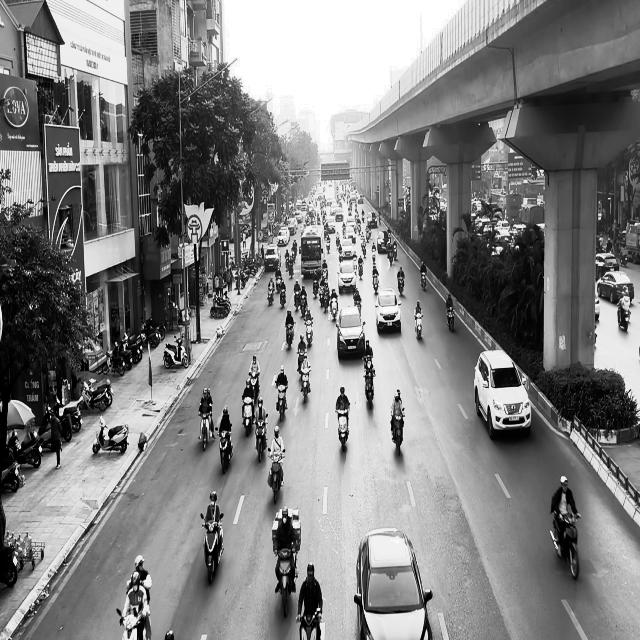bus: (300, 232, 322, 277)
car: (354, 527, 433, 639), (474, 349, 531, 440), (336, 305, 366, 360), (597, 271, 634, 304), (375, 287, 401, 332)
motorbike: (549, 511, 581, 579), (200, 513, 224, 584), (274, 544, 296, 618), (92, 417, 129, 454), (116, 607, 151, 639), (268, 449, 286, 503), (163, 336, 189, 368), (217, 425, 233, 473), (296, 610, 322, 639), (390, 408, 405, 455), (362, 356, 375, 409), (198, 407, 213, 451), (335, 406, 349, 452), (297, 366, 311, 404), (242, 396, 254, 437), (275, 383, 287, 421), (617, 303, 630, 331), (285, 322, 295, 349), (414, 312, 423, 340), (304, 318, 313, 346), (446, 305, 454, 331), (279, 285, 286, 308), (397, 274, 404, 296), (267, 285, 274, 305), (420, 271, 427, 291)
